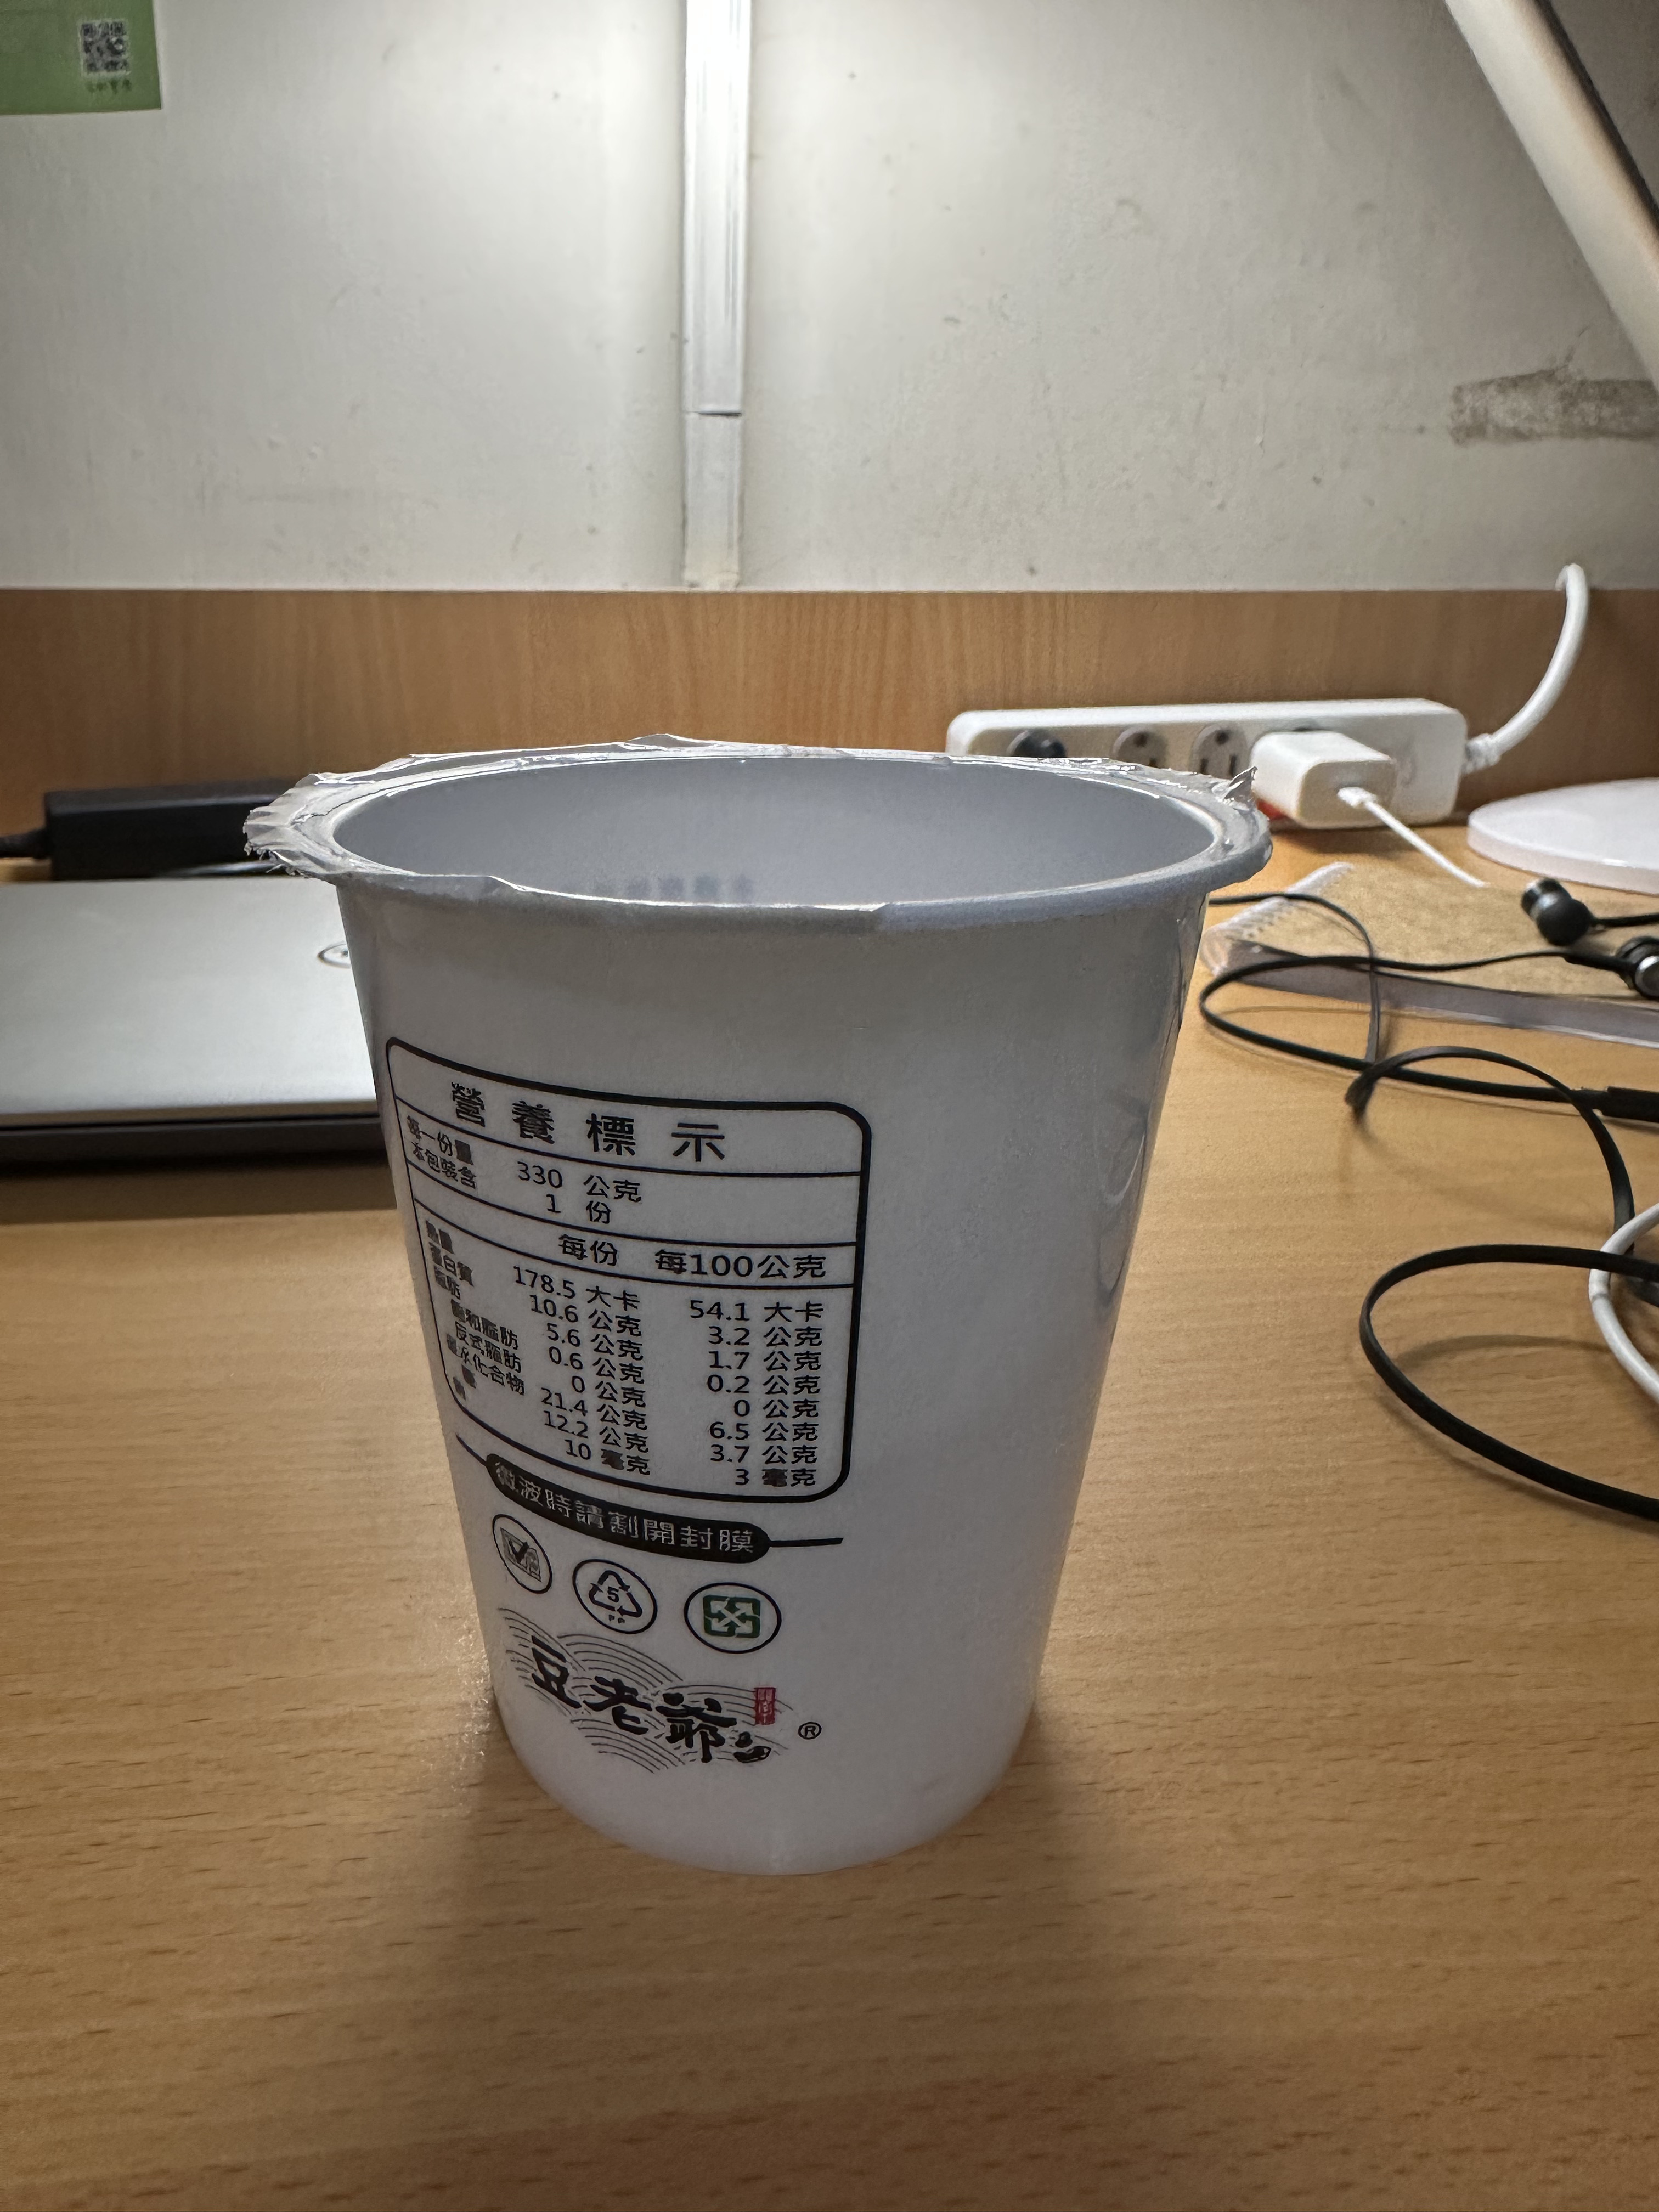cup: (246, 723, 1281, 1878)
